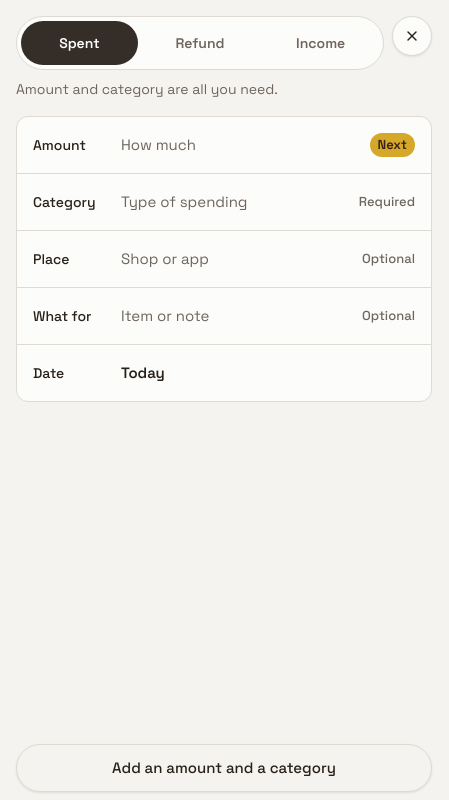
Test: /log place picker (MOB-R80 B) › Return adds the typed place when none is listed
This screenshot has width=449, height=800.
Click the button "Place Shop or app Optional" at (51, 259), box [17, 231, 431, 287]
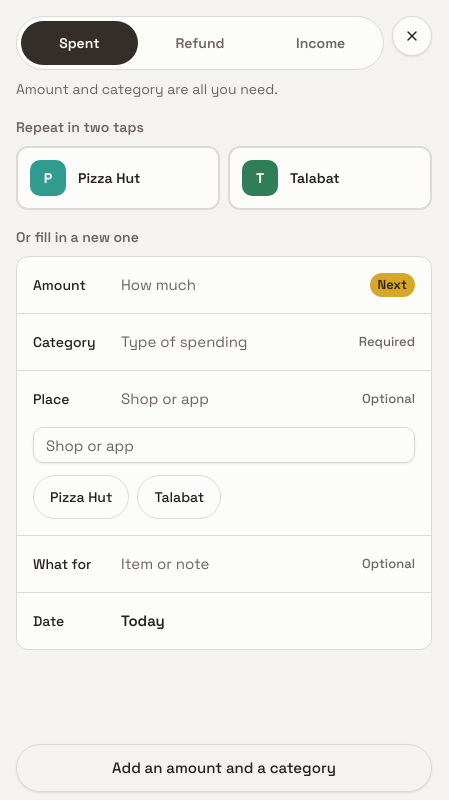
Type "Bakery" into the field named "Search places" at (224, 445), box [33, 427, 415, 463]
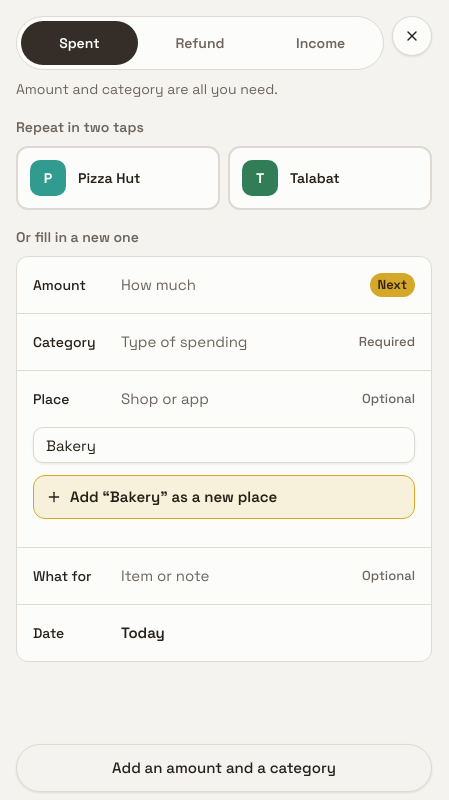
Press Enter in the field named "Search places", box [33, 427, 415, 463]
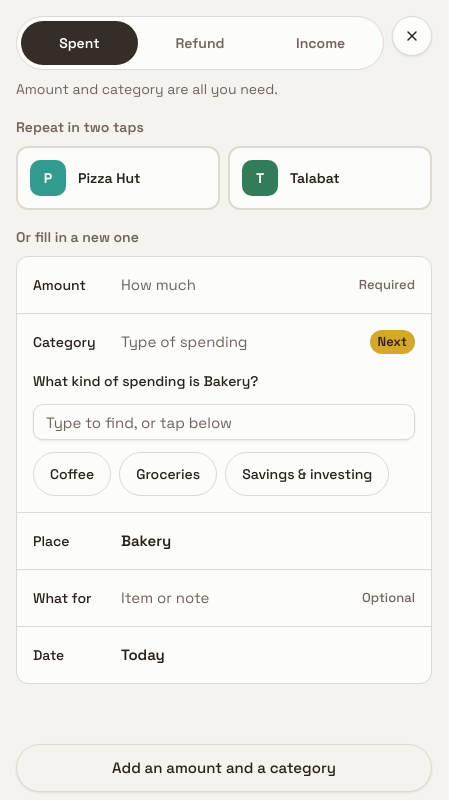
Result: the button "Place Bakery" is shown at [17, 513, 431, 569]
Result: the text "What kind of spending is Bakery?" is shown at [33, 372, 258, 390]
